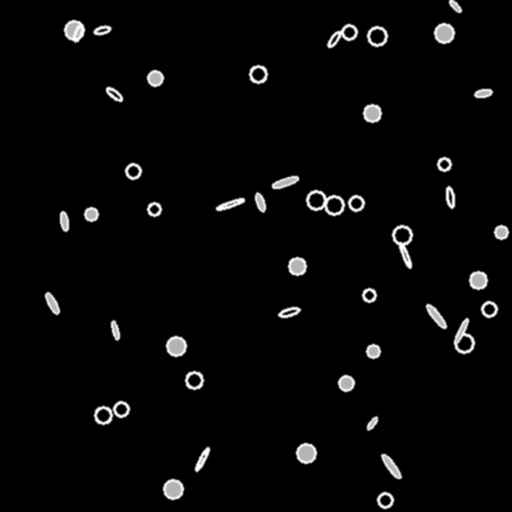pseudomonas: (424, 302, 448, 330), (380, 453, 402, 479), (271, 174, 299, 190), (453, 318, 469, 344), (216, 197, 244, 211), (194, 447, 210, 471), (44, 291, 60, 315), (398, 242, 412, 268), (326, 29, 342, 49), (105, 86, 123, 102), (254, 193, 266, 211), (72, 24, 84, 42), (279, 307, 299, 317), (445, 187, 455, 207), (365, 416, 379, 430), (448, 0, 462, 13), (93, 25, 111, 35), (110, 321, 120, 339), (60, 211, 68, 231), (475, 89, 491, 97)
synechocystis: (307, 191, 325, 209), (167, 337, 185, 355), (435, 24, 453, 42), (297, 444, 315, 462), (65, 21, 83, 39), (393, 226, 411, 244), (368, 27, 386, 45), (455, 334, 473, 352), (164, 480, 182, 498), (325, 196, 343, 214), (364, 105, 380, 121), (186, 372, 202, 388), (250, 66, 266, 82), (289, 258, 305, 274), (95, 407, 111, 423), (470, 272, 486, 288), (126, 164, 140, 178), (114, 402, 128, 416), (482, 302, 496, 316), (148, 71, 162, 85), (339, 376, 353, 390), (378, 493, 392, 507), (342, 25, 356, 39), (349, 196, 363, 210), (148, 203, 160, 215), (85, 208, 97, 220), (495, 226, 507, 238), (363, 289, 375, 301), (367, 345, 379, 357), (438, 158, 450, 170)
